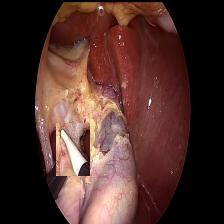Hook: (54, 122, 88, 175)
